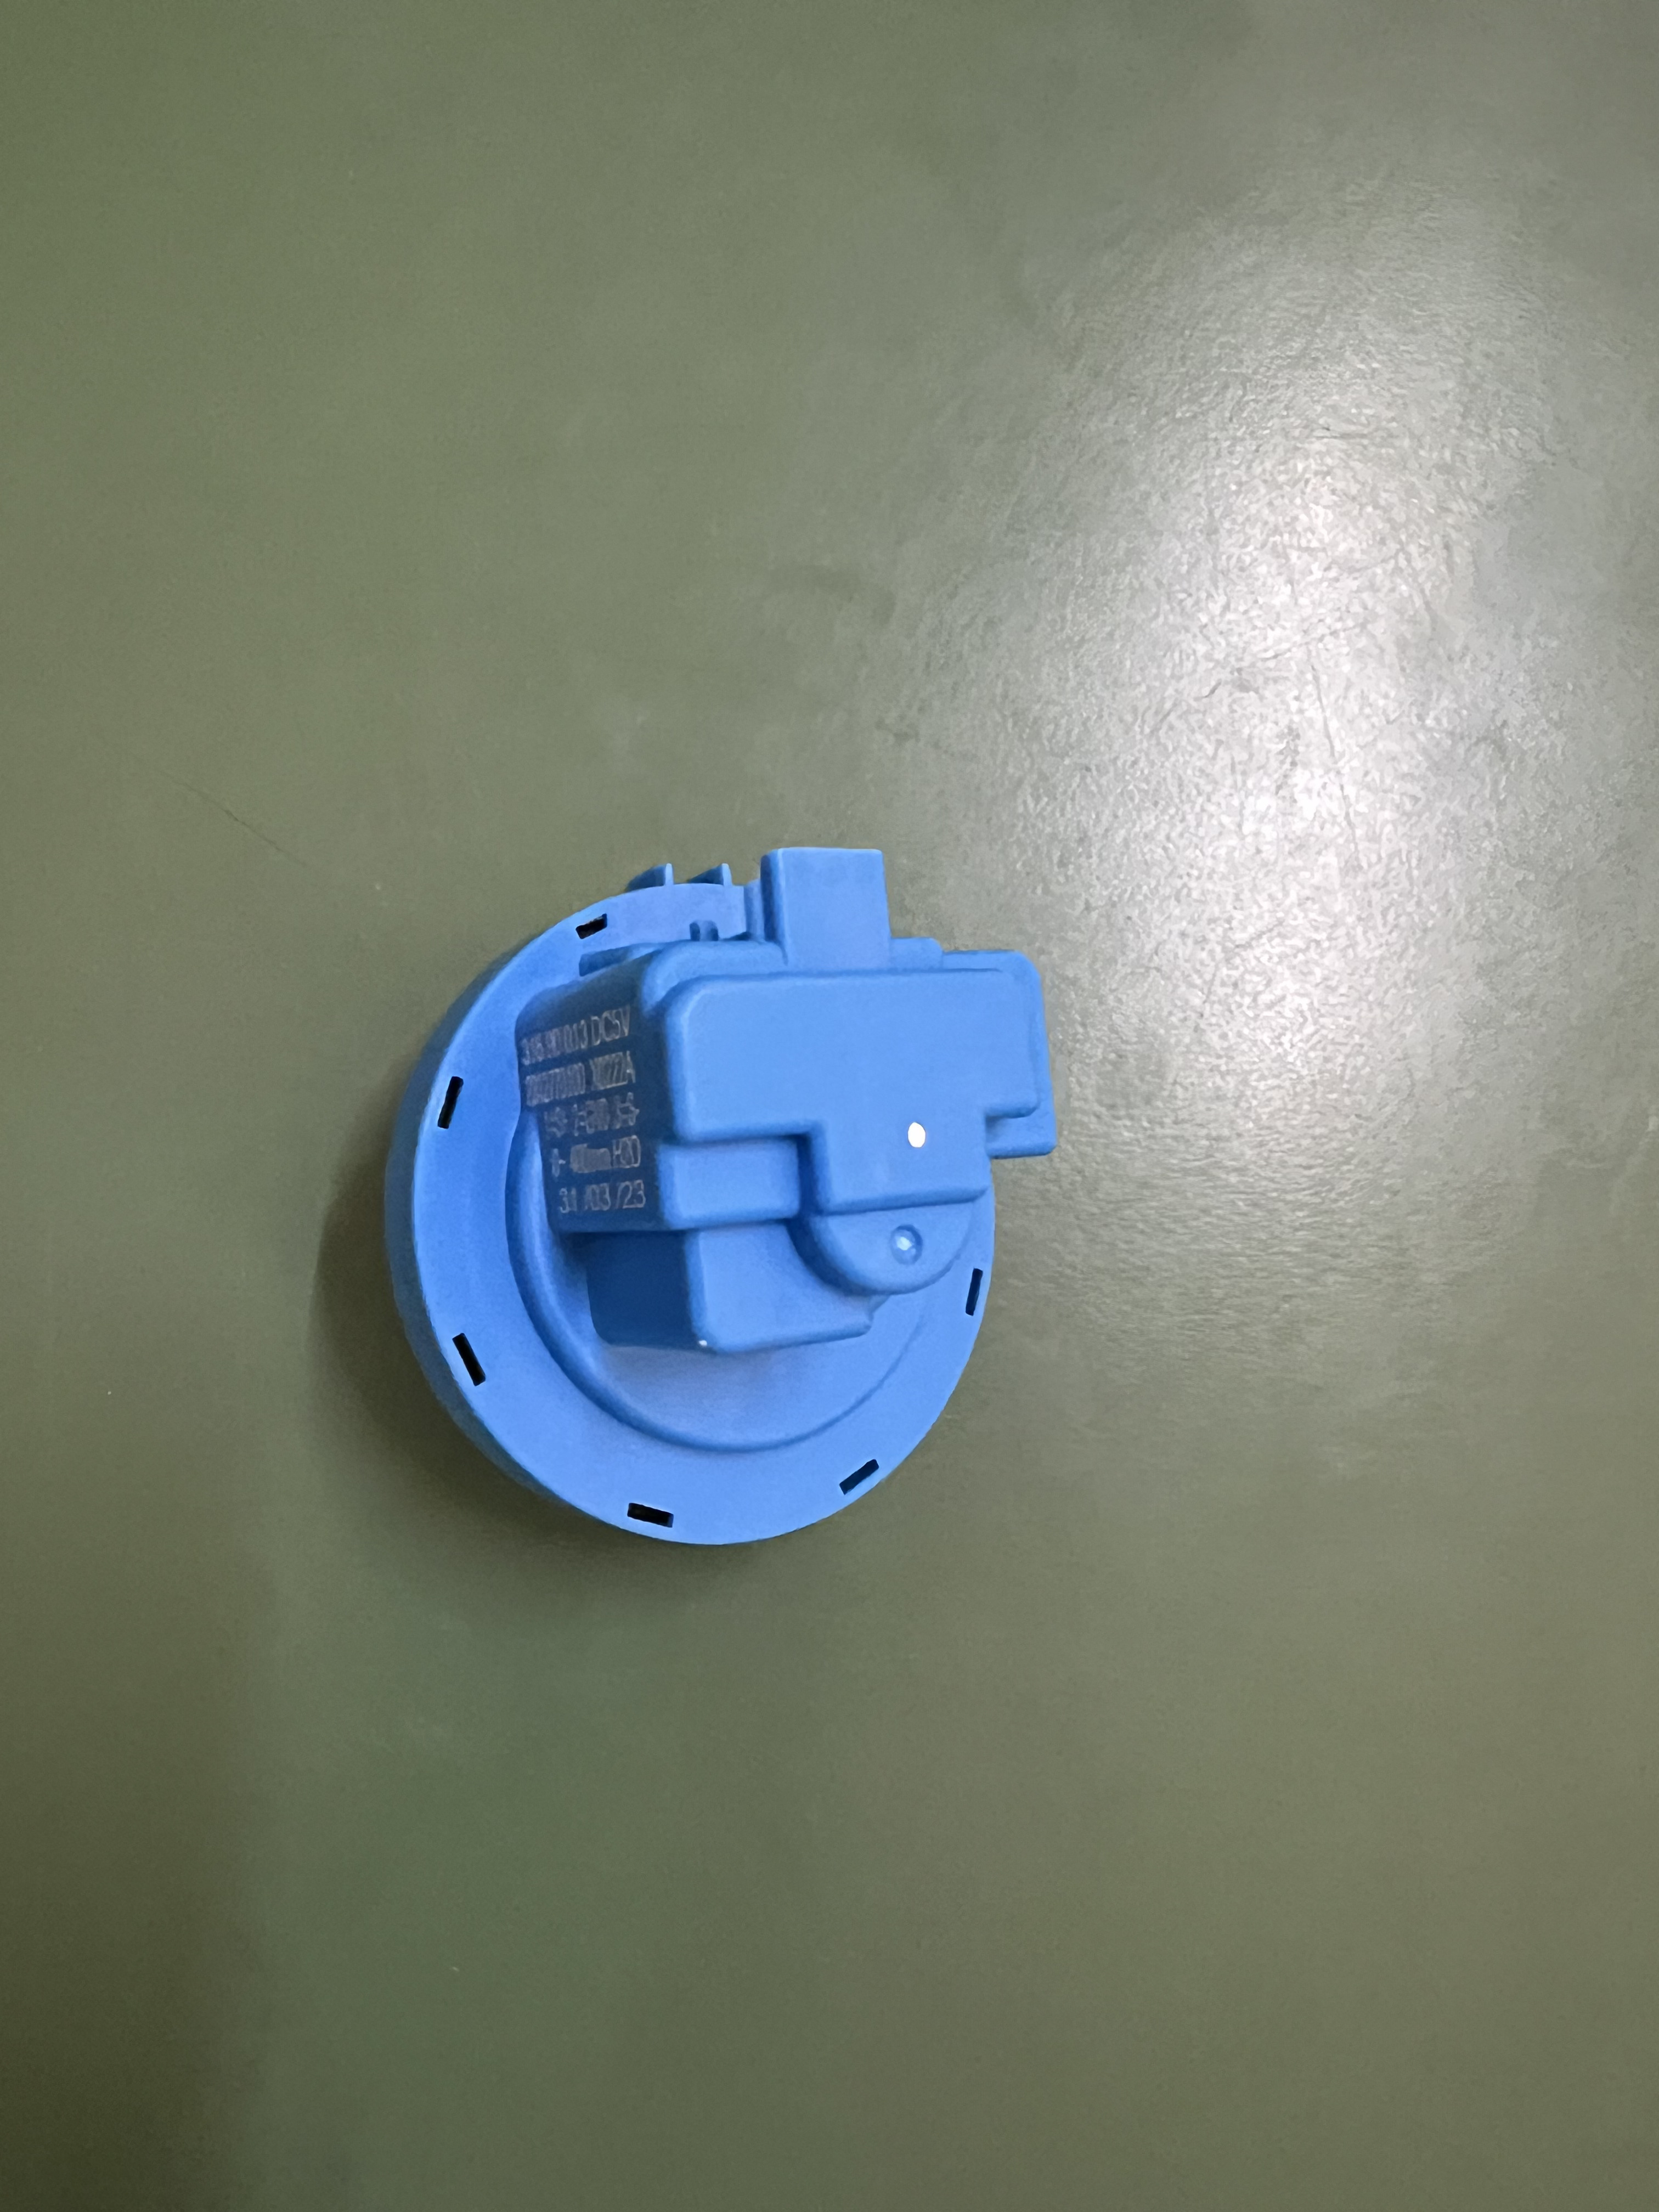voltas_beko_pressure_switch: (378, 798, 1079, 1588)
